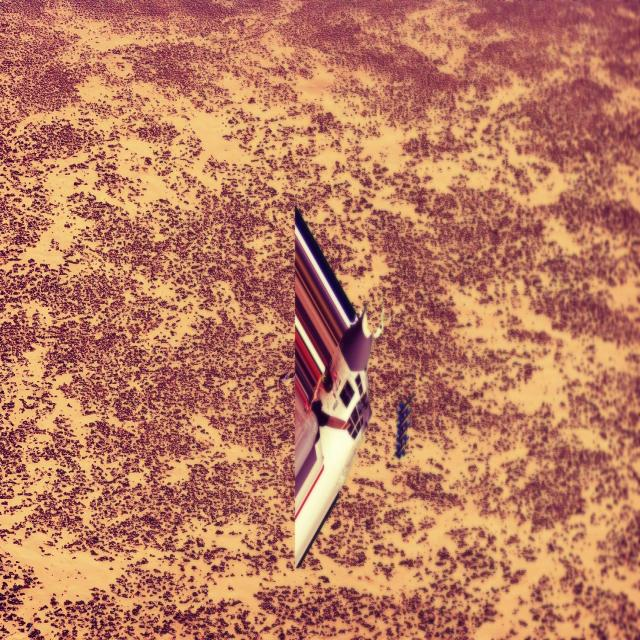airplane: (292, 204, 383, 569), (394, 392, 414, 458)
